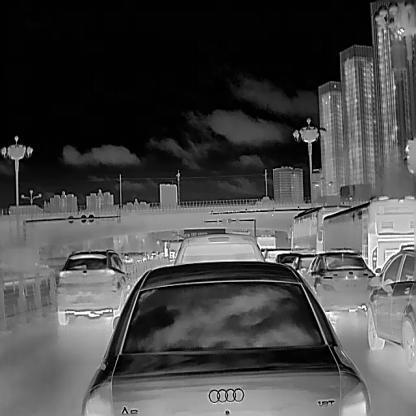car: (79, 259, 371, 416), (316, 193, 416, 279), (366, 246, 416, 372), (56, 248, 127, 325), (304, 250, 377, 319), (287, 203, 354, 254), (171, 230, 265, 266), (290, 252, 322, 278), (259, 245, 295, 263), (274, 250, 304, 269), (255, 234, 276, 255), (163, 238, 185, 258), (124, 250, 148, 262), (148, 250, 158, 260)
